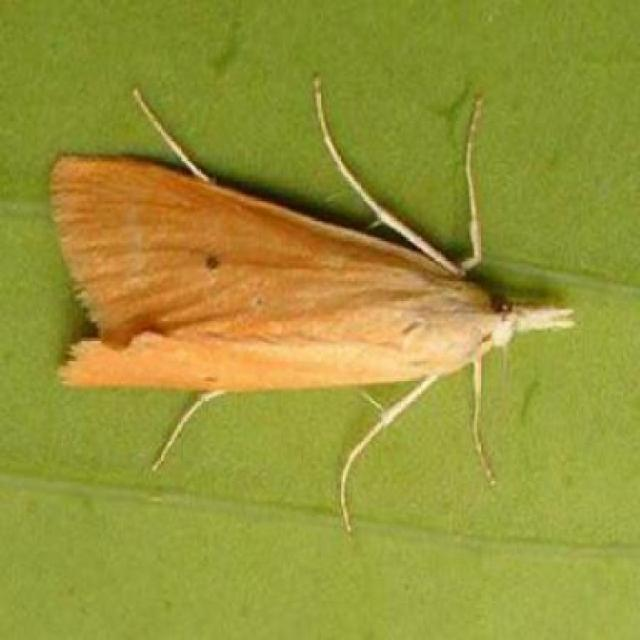stem-borer: (44, 148, 578, 488)
